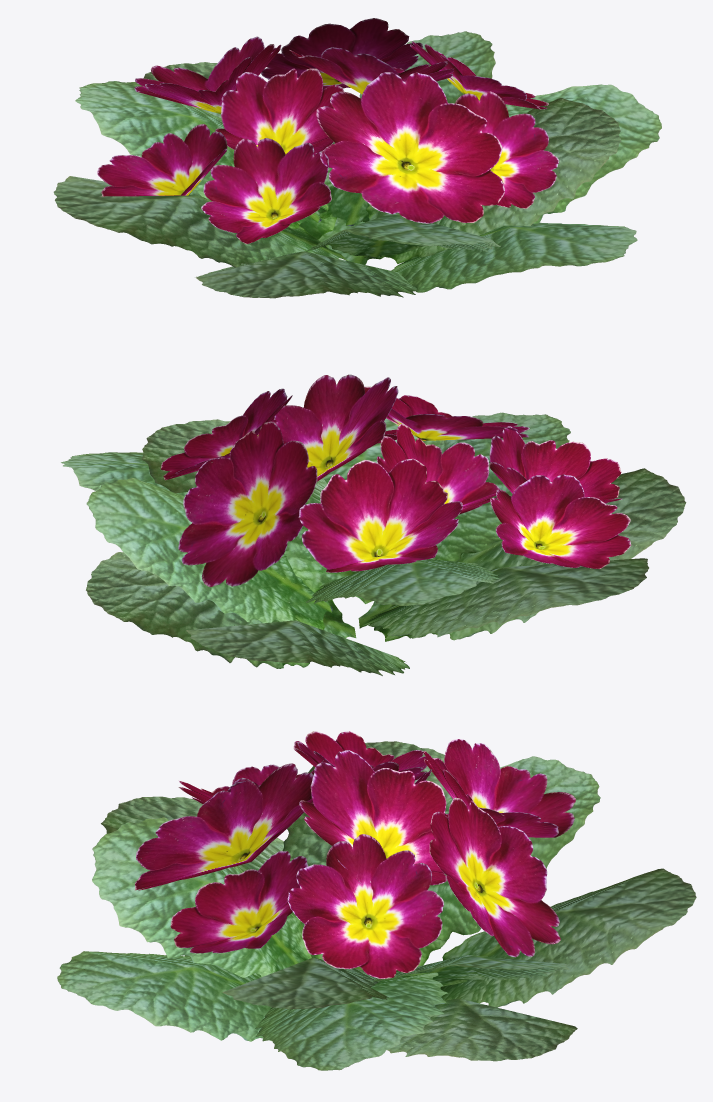
The model's file is PrimroseAcaulis2B.fbx.
The picture shows the model from 3 angles, top to bottom: view 1: azimuth 30°, elevation 25°; view 2: azimuth 150°, elevation 25°; view 3: azimuth 270°, elevation 25°; orthographic projection. The views are drawn at different scales.
Visible parts, largest first — view 1: PrimroseAcaulis2B_LOD0; view 2: PrimroseAcaulis2B_LOD0; view 3: PrimroseAcaulis2B_LOD0.
Part boxes in pixels (box(x1,y1,x2,y2)): PrimroseAcaulis2B_LOD0: box(53, 18, 661, 298); PrimroseAcaulis2B_LOD0: box(61, 374, 686, 675); PrimroseAcaulis2B_LOD0: box(57, 731, 696, 1070).
Size of what is drawn, in the model's own units: 49.45 by 20.93 by 45.89.
